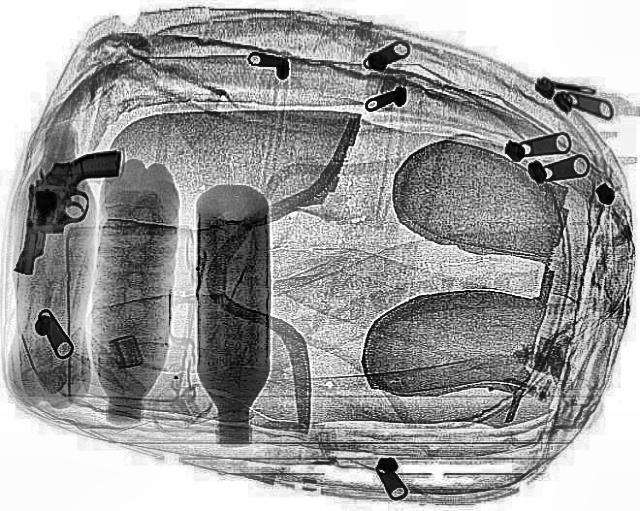Gun: (8, 136, 124, 284)
